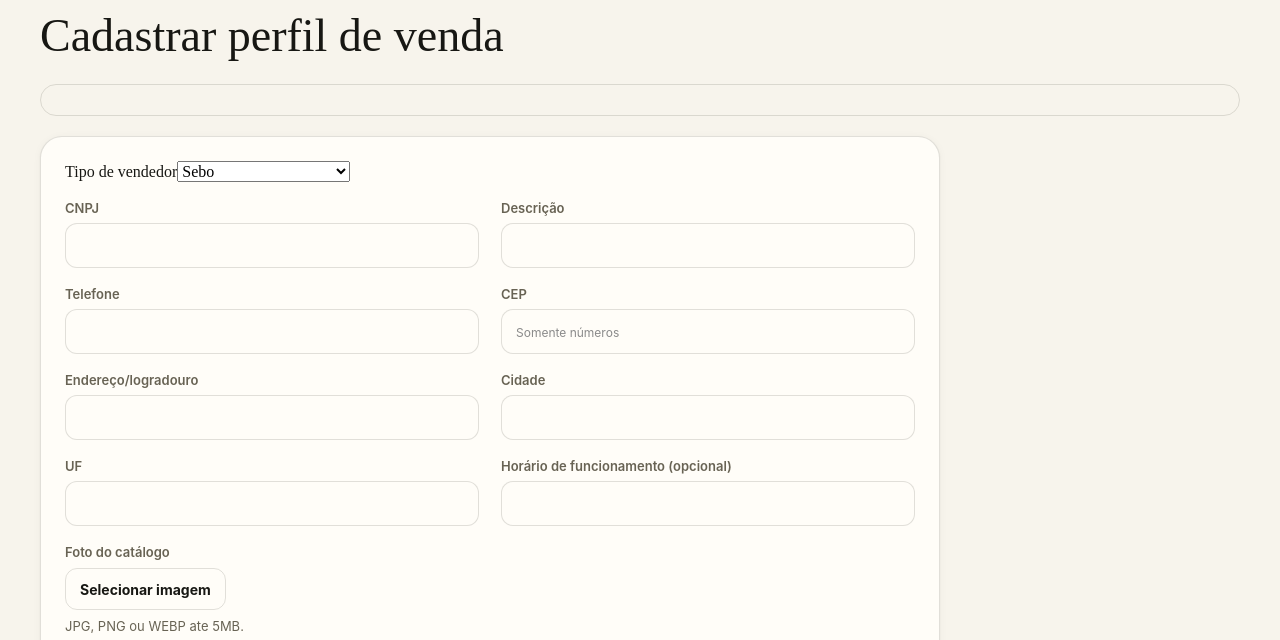
MeuSeboPage — branches adicionais › cadastra novo sebo com o endereco obrigatorio
The image size is (1280, 640).
Check: the heading "Cadastrar perfil de venda" is shown, box x1=40 y1=10 x2=504 y2=61
Type "12345678000199" into the field labelled "CNPJ" at [272, 246], box x1=65 y1=223 x2=479 y2=268
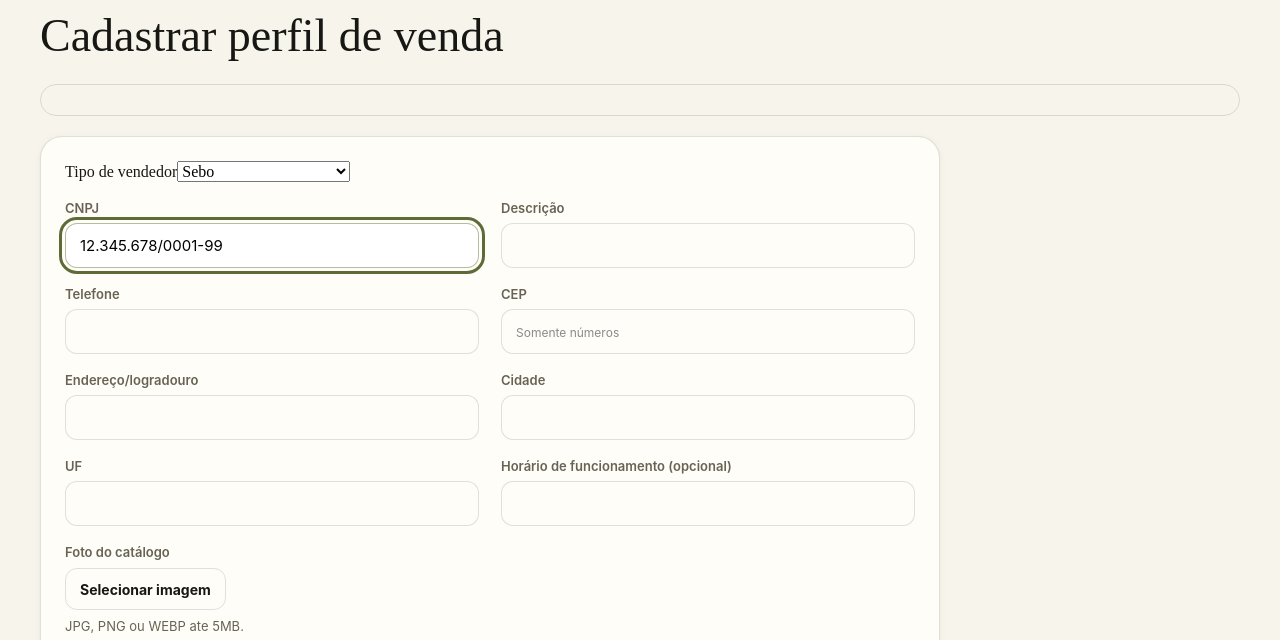
Type "60123456" into the field labelled "CEP" at [708, 332], box x1=501 y1=309 x2=915 y2=354
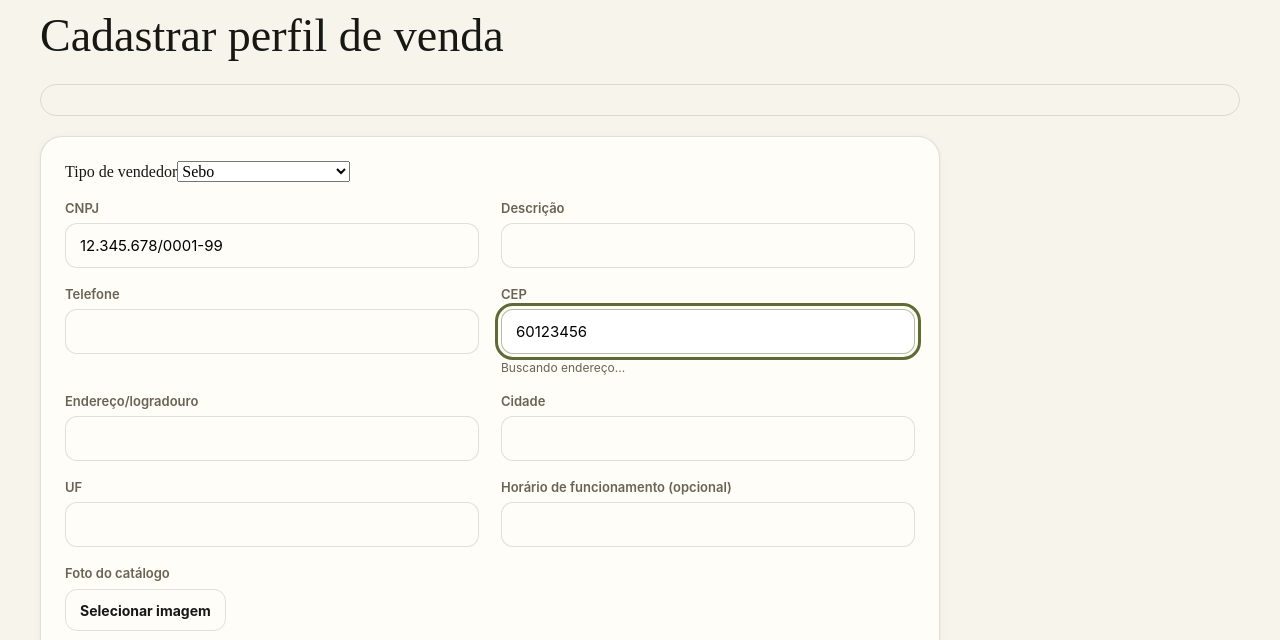
Type "Rua dos Livros" into the field labelled "Endereço/logradouro" at [272, 438], box x1=65 y1=416 x2=479 y2=461
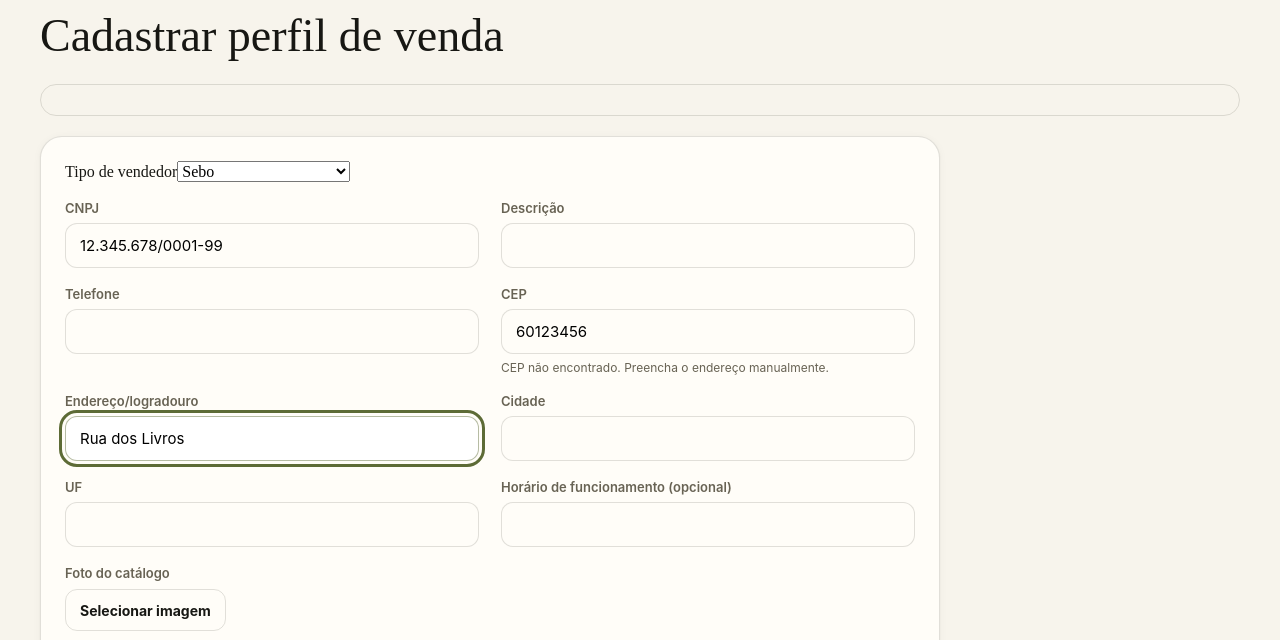
Type "Fortaleza" into the field labelled "Cidade" at [708, 438], box x1=501 y1=416 x2=915 y2=461
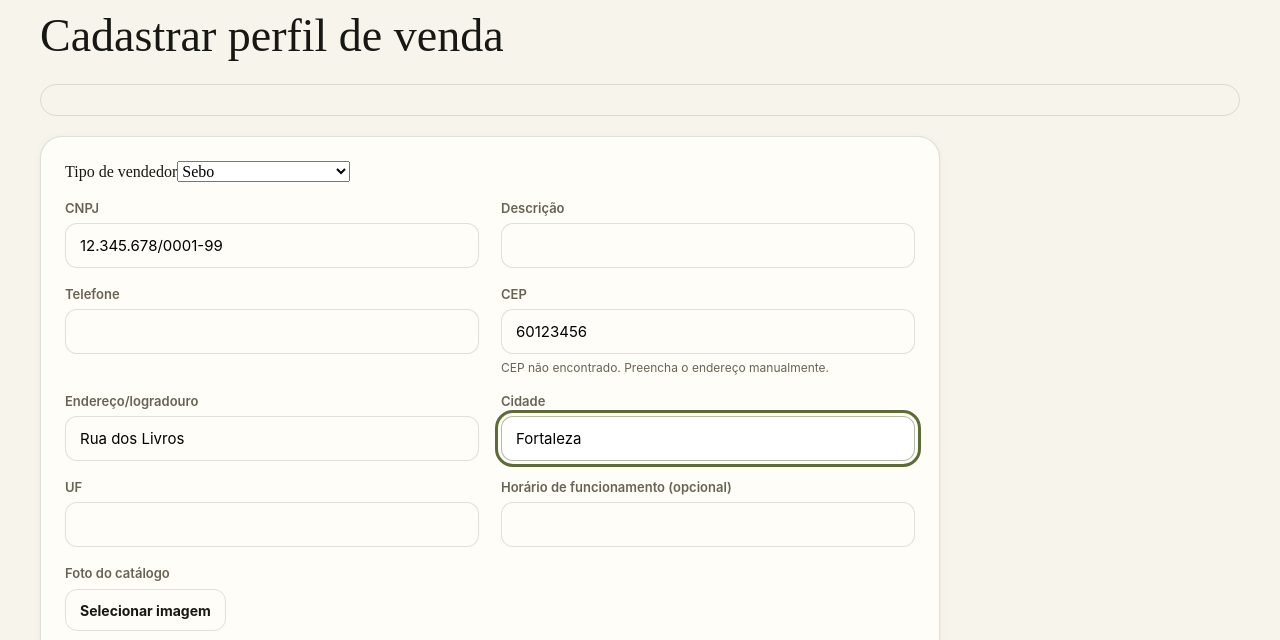
Type "CE" into the field labelled "UF" at [272, 524], box x1=65 y1=502 x2=479 y2=547
(page scrolled)
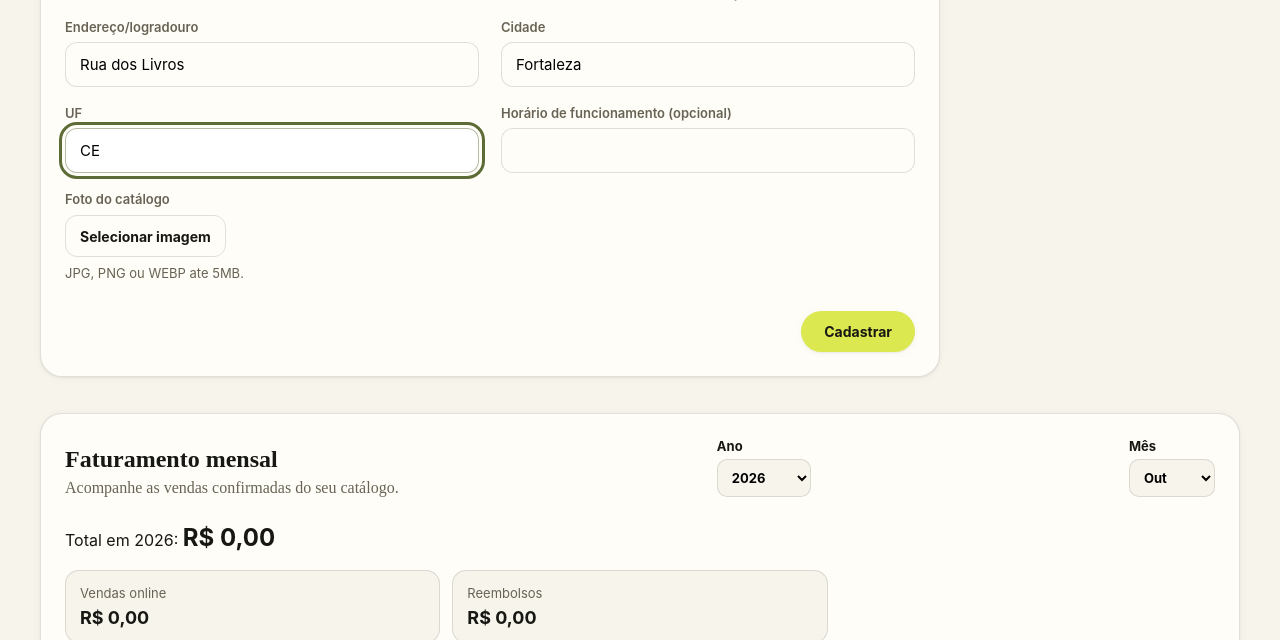
Click the button "Cadastrar" at [858, 332], box x1=801 y1=311 x2=915 y2=352
(page scrolled)
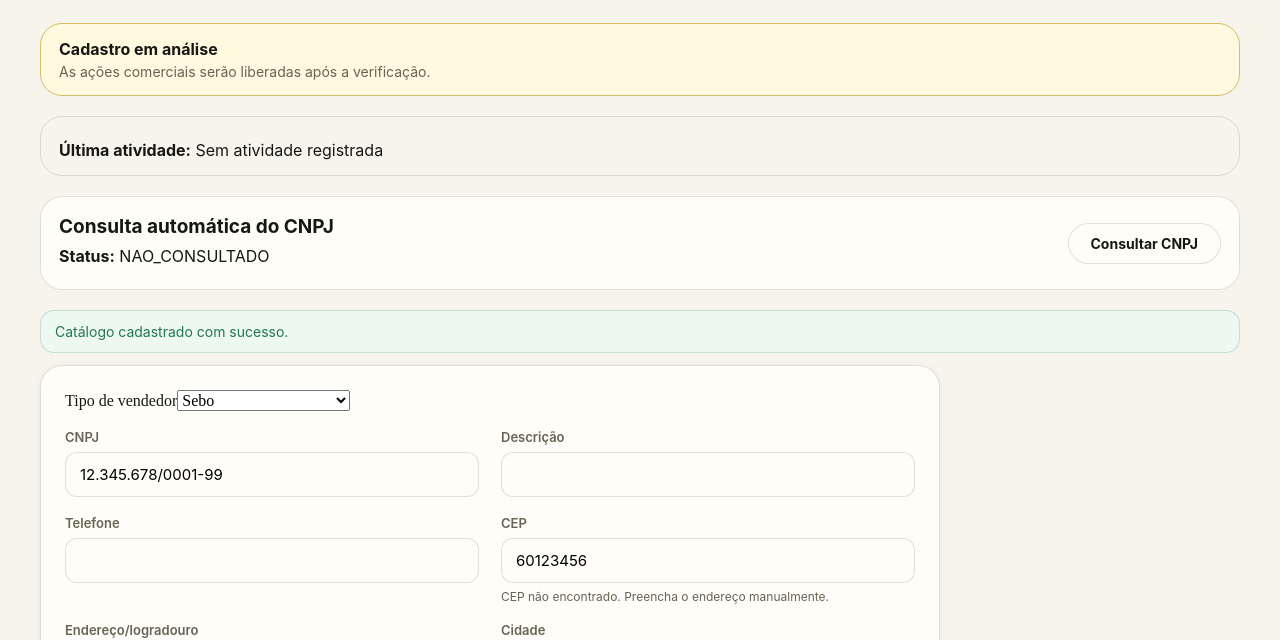
Check: the text "Catálogo cadastrado com sucesso." is shown, box x1=40 y1=310 x2=1240 y2=353
